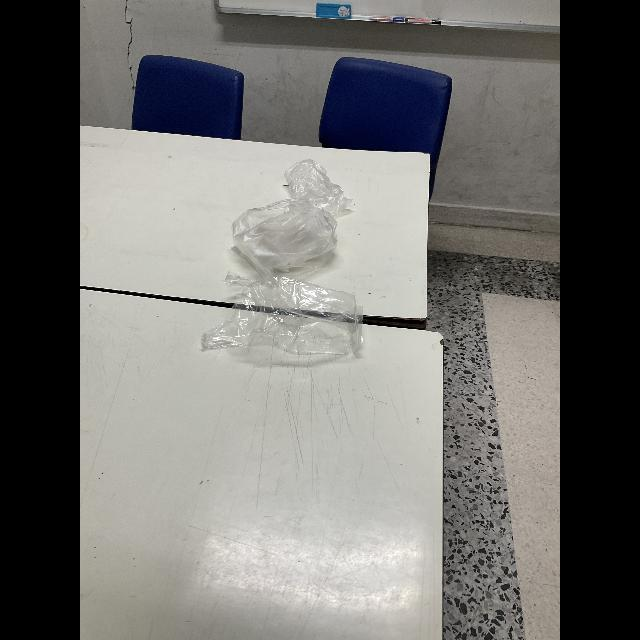plastic_bag: (193, 276, 375, 368), (219, 197, 345, 265)
scrap_plastic: (280, 156, 360, 202)
